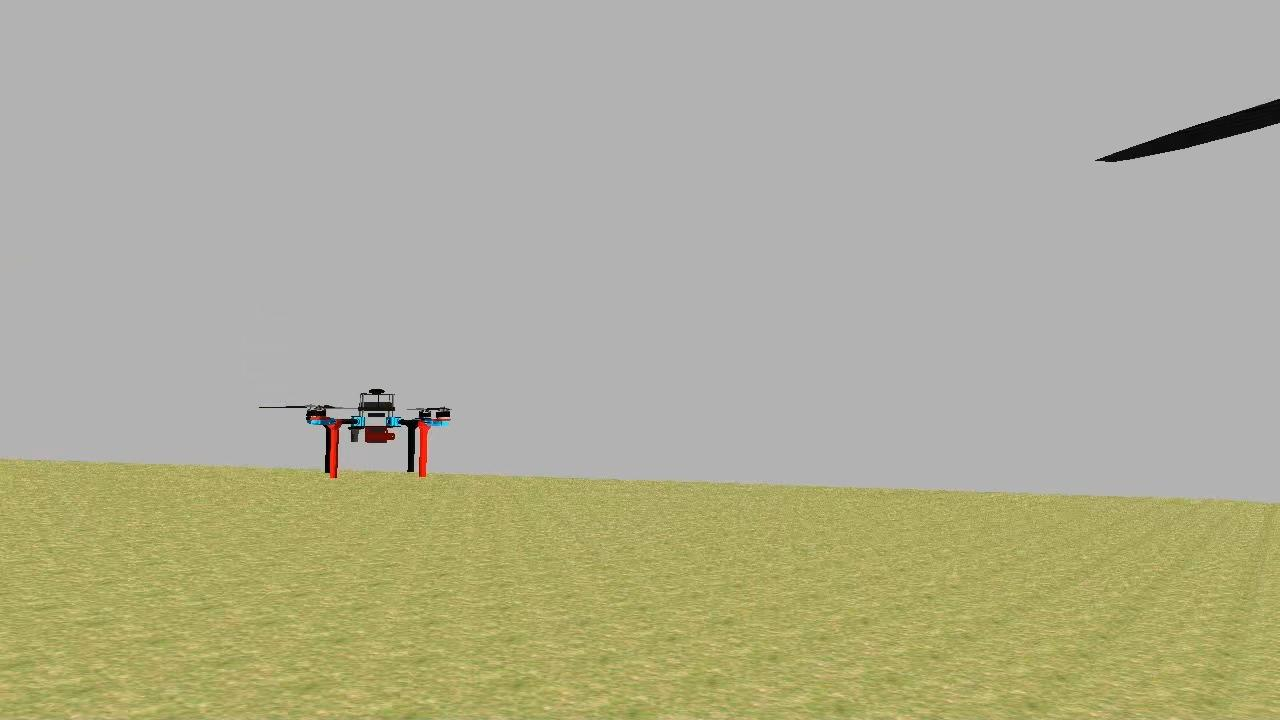UAV: (302, 382, 454, 490)
